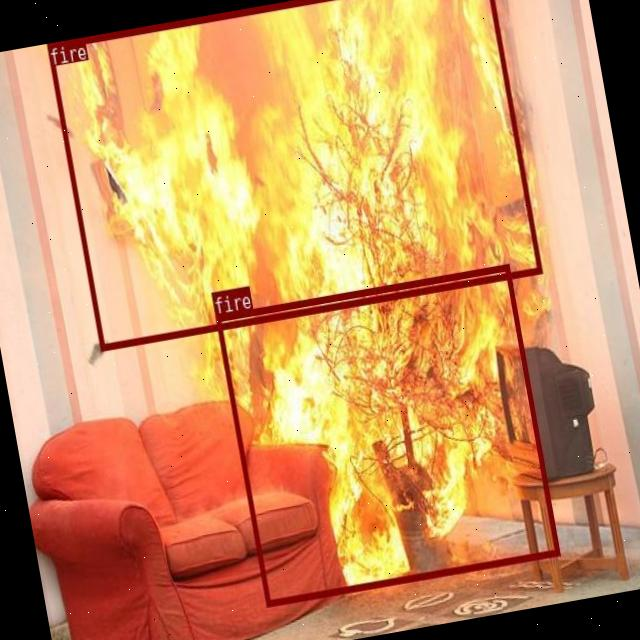fire: (47, 0, 541, 348), (216, 264, 560, 606)
